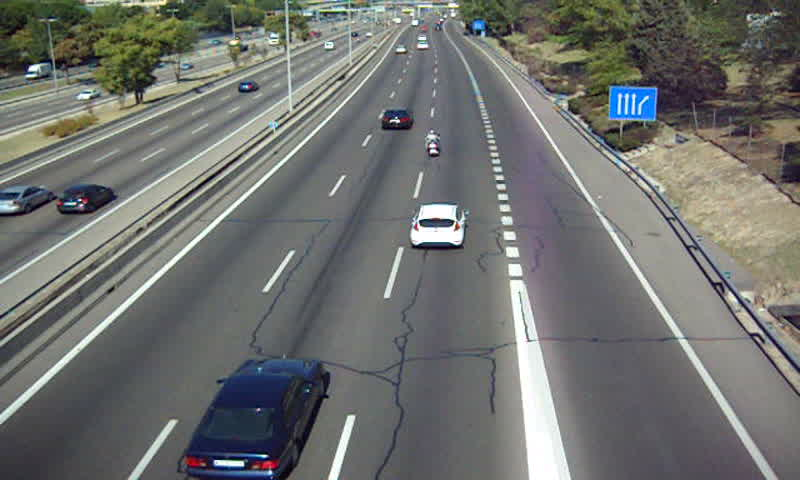car: (185, 357, 323, 480), (411, 204, 465, 249), (381, 108, 414, 131)
motorcycle: (423, 129, 443, 157)
